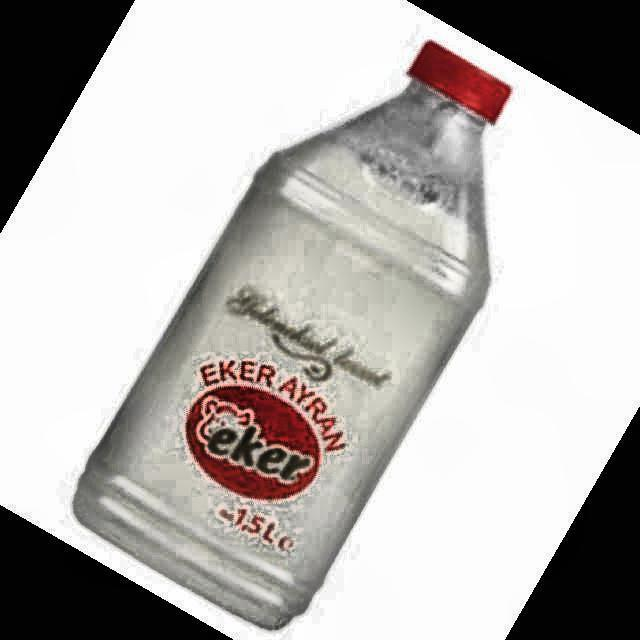plastic: (75, 42, 509, 628)
